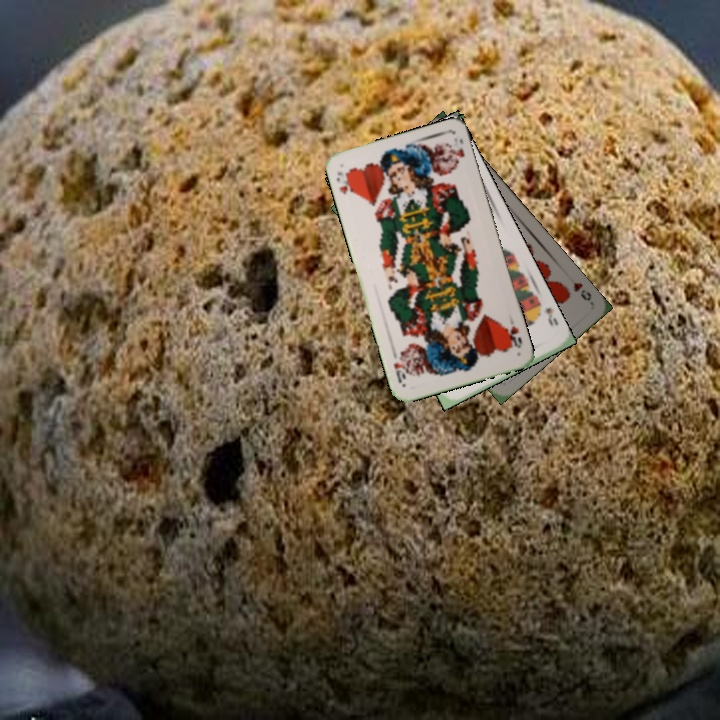H9: (569, 278, 594, 303)
HO: (501, 321, 525, 351), (332, 168, 356, 197)
S9: (531, 298, 561, 329)
